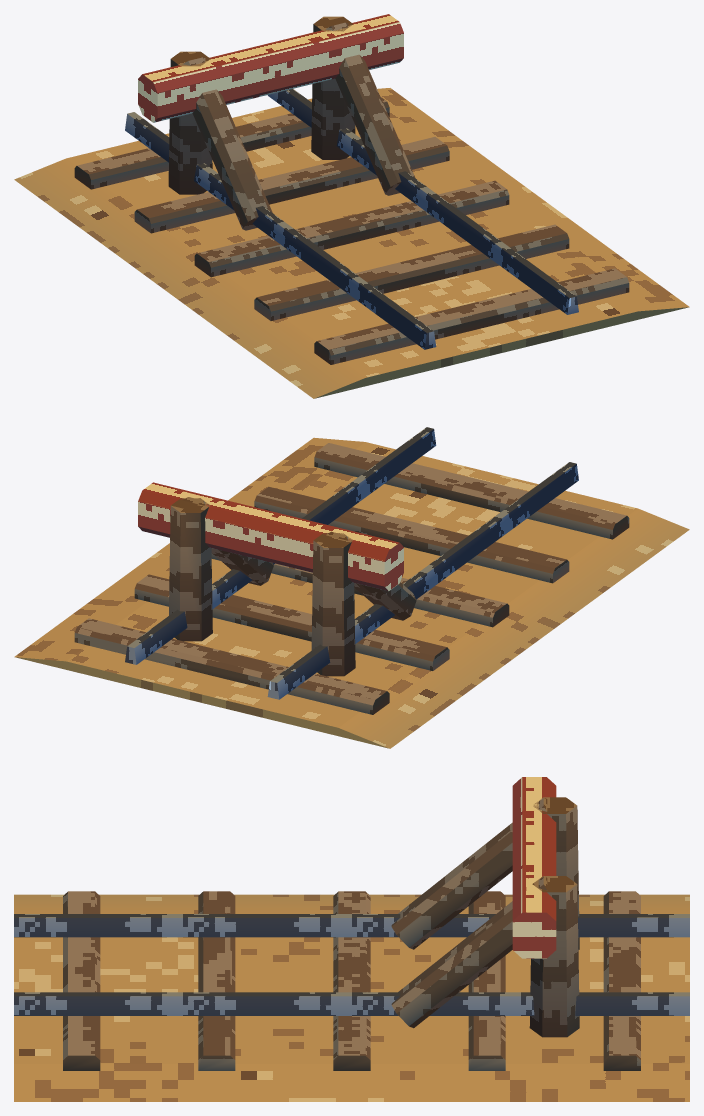
File: wrail.track__bumper.glb
3 renders of one model, top to bottom at view 1: azimuth 30°, elevation 25°; view 2: azimuth 150°, elevation 25°; view 3: azimuth 270°, elevation 25°, orthographic. The views are drawn at different scales.
Visible parts, largest first — view 1: kit_ballast, kit_ties, kit_bumper, kit_rails; view 2: kit_ballast, kit_ties, kit_bumper, kit_rails; view 3: kit_ballast, kit_rails, kit_bumper, kit_ties.
Boxes of the visible parts, <box> form: kit_ballast: <box>14,88,689,398</box>; kit_ties: <box>74,97,629,364</box>; kit_bumper: <box>138,14,415,230</box>; kit_rails: <box>125,89,578,349</box>; kit_ballast: <box>14,437,689,748</box>; kit_ties: <box>74,443,629,714</box>; kit_bumper: <box>138,482,416,676</box>; kit_rails: <box>125,427,578,699</box>; kit_ballast: <box>14,894,689,1101</box>; kit_rails: <box>14,914,689,1015</box>; kit_bumper: <box>391,777,579,1037</box>; kit_ties: <box>63,891,640,1070</box>.
Size of the model in its own units: 2.9 by 1.03 by 4.
Materials: 5 (5 with a texture image).
